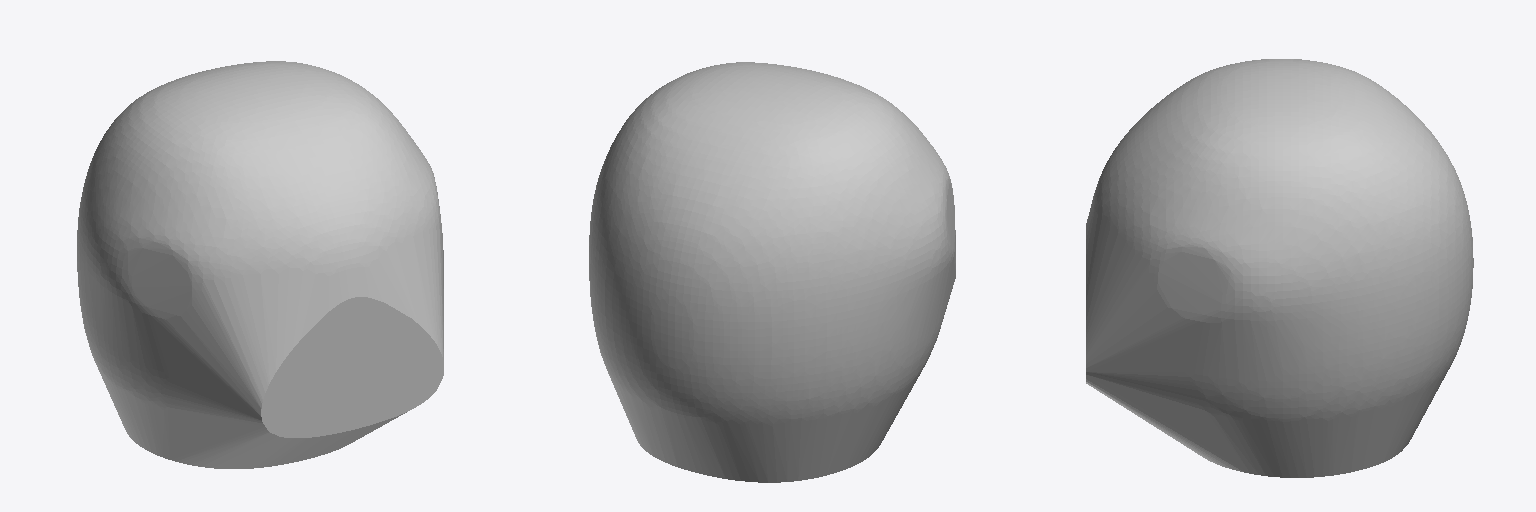
The model's file is duck_collision_2.obj.
3 renders of one model, left to right at view 1: azimuth 30°, elevation 25°; view 2: azimuth 150°, elevation 25°; view 3: azimuth 270°, elevation 25°, orthographic.
Bounding box in the file's own units: 0.0521 × 0.0525 × 0.0546.